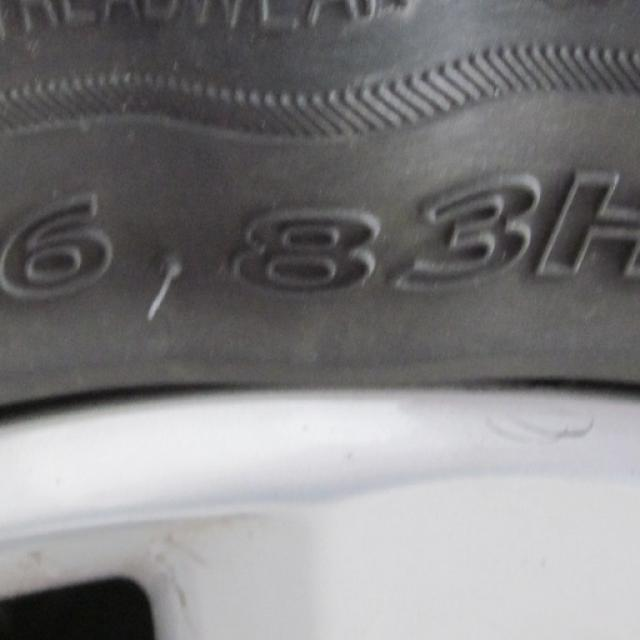Bulge: (208, 21, 508, 324)
